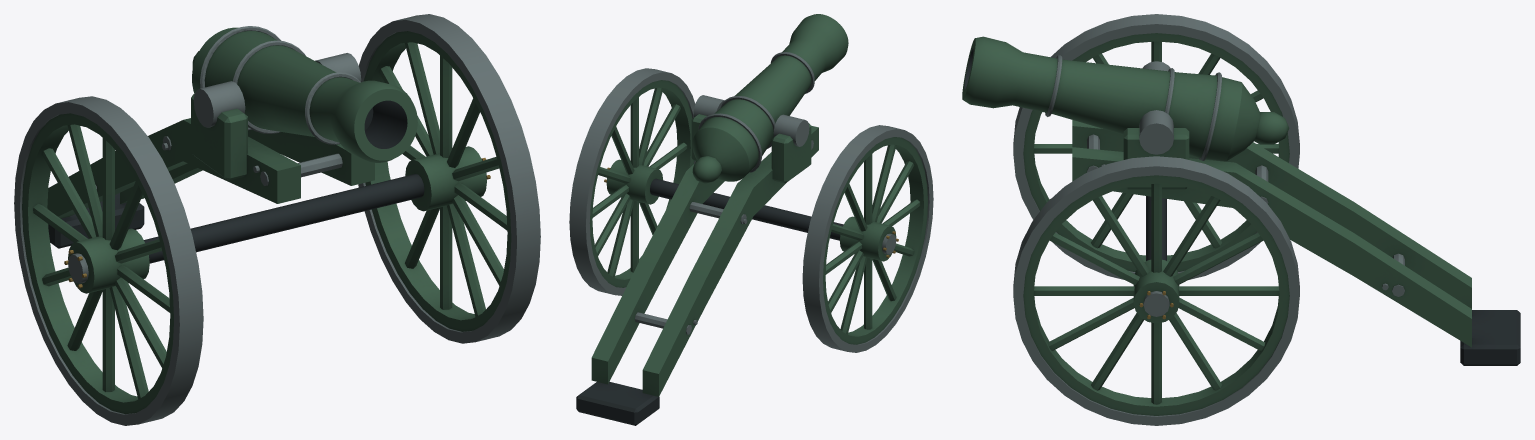
File: cannon.glb
3 views of the same model, side by side, from view 1: azimuth 30°, elevation 25°; view 2: azimuth 150°, elevation 25°; view 3: azimuth 270°, elevation 25° (orthographic). The views are drawn at different scales.
Visible parts, largest first — view 1: cannon_static_0, cannon_wheel_left_1, cannon_wheel_right_2; view 2: cannon_static_0, cannon_wheel_left_1, cannon_wheel_right_2; view 3: cannon_static_0, cannon_wheel_right_2, cannon_wheel_left_1.
Part boxes in pixels (x1,y1,x2,y2): cannon_static_0: [47, 26, 424, 263]; cannon_wheel_left_1: [14, 96, 203, 425]; cannon_wheel_right_2: [358, 14, 540, 343]; cannon_static_0: [576, 14, 848, 425]; cannon_wheel_left_1: [802, 125, 933, 352]; cannon_wheel_right_2: [569, 68, 695, 295]; cannon_static_0: [962, 36, 1520, 365]; cannon_wheel_right_2: [1013, 156, 1299, 425]; cannon_wheel_left_1: [1013, 14, 1299, 279].
Bounding box in the file's own units: 1.54 × 1.3 × 2.12.
Materials: 1 (1 with a texture image).
